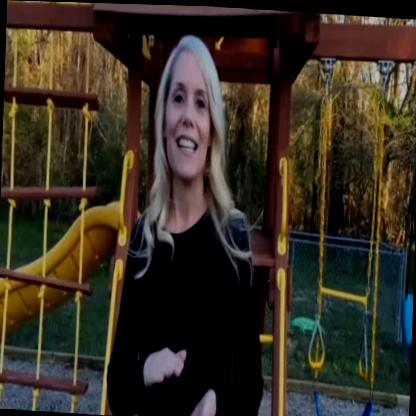ExcuseMe: (139, 315, 219, 416)
